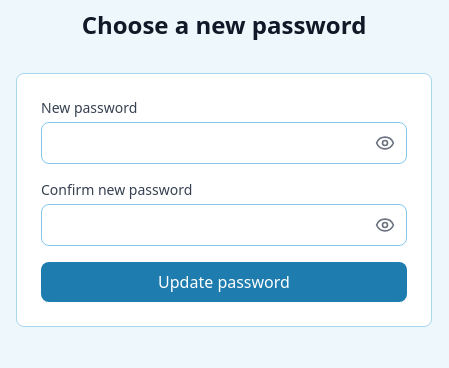
it: ResetPasswordPage › requires password and confirmation to match
Type "brand-new-pw" into the password field labelled "New password".
click(224, 143); type("brand-new-pw")  # box 41,122 -> 407,164
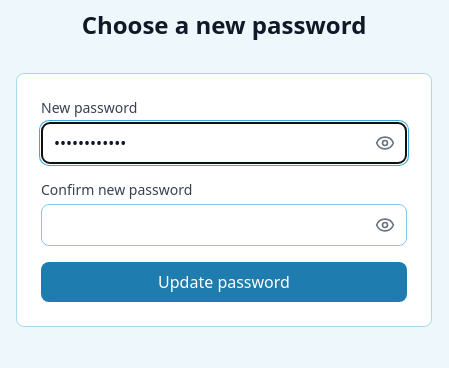
Type "different-pw" into the password field labelled "Confirm new password".
click(224, 225); type("different-pw")  # box 41,204 -> 407,246
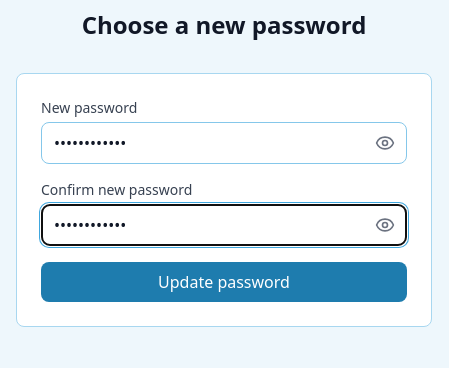
Click the button "Update password".
click(224, 282)  # box 41,262 -> 407,302
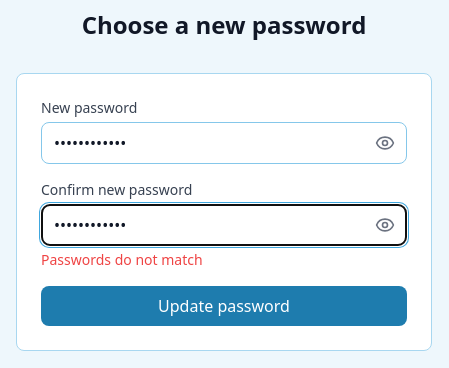
Now the text "Passwords do not match" is shown, box 41,250 -> 203,269
